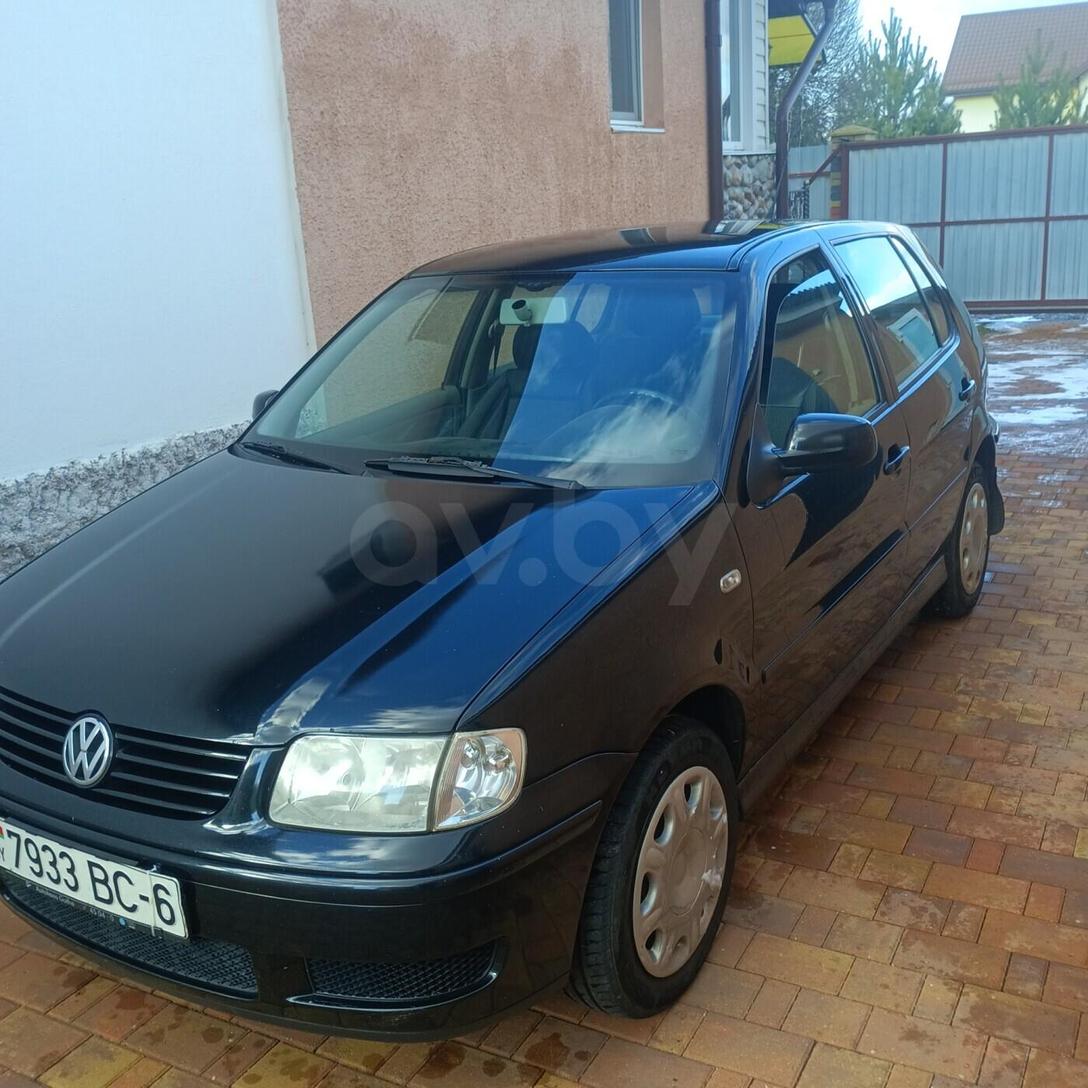Polo_2000-2002: (0, 216, 1021, 1024)
